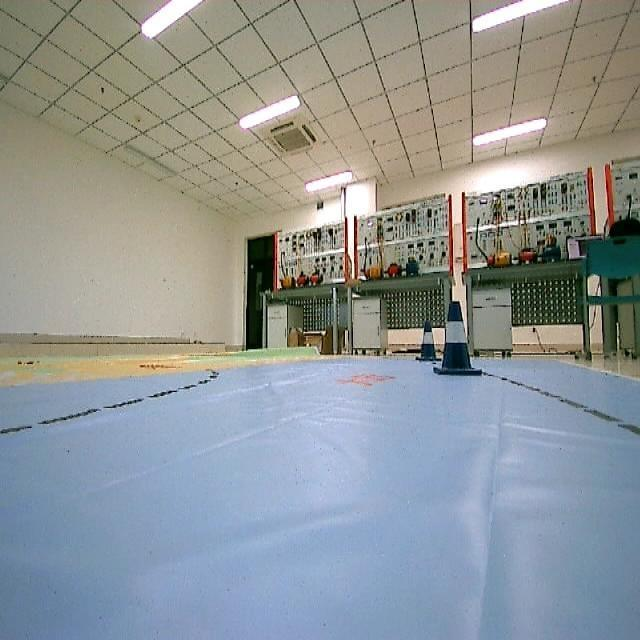obstacle: (438, 293, 486, 386), (414, 322, 439, 364)
